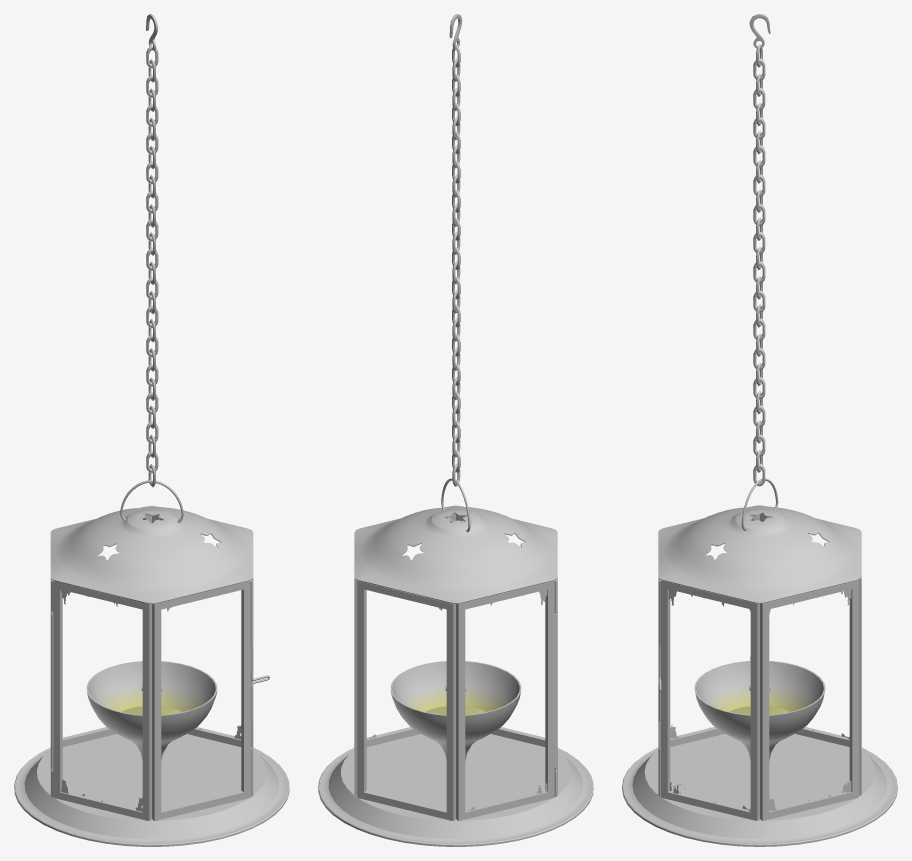
The model's file is brass_lantern_4k.fbx.
3 renders of one model, left to right at view 1: azimuth 30°, elevation 25°; view 2: azimuth 150°, elevation 25°; view 3: azimuth 270°, elevation 25°, orthographic.
Parts seen in each view (by area): view 1: brass_diya_lantern, brass_diya_lantern_chain; view 2: brass_diya_lantern, brass_diya_lantern_chain; view 3: brass_diya_lantern, brass_diya_lantern_chain.
Boxes of the visible parts, x1,y1,x2,y2 form: brass_diya_lantern: (14, 505, 289, 846); brass_diya_lantern_chain: (146, 14, 158, 487); brass_diya_lantern: (318, 505, 593, 846); brass_diya_lantern_chain: (449, 14, 462, 486); brass_diya_lantern: (622, 505, 897, 846); brass_diya_lantern_chain: (749, 14, 770, 486).
Size of the model in its own units: 12.3 by 38.08 by 12.3.
